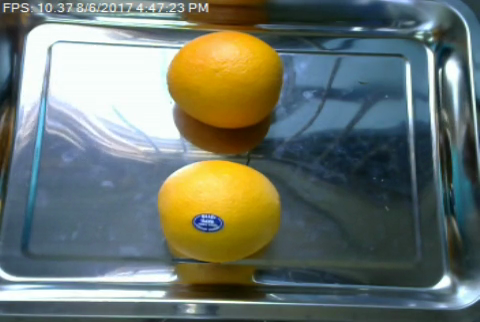Orange: (157, 160, 282, 261), (168, 31, 283, 127)
